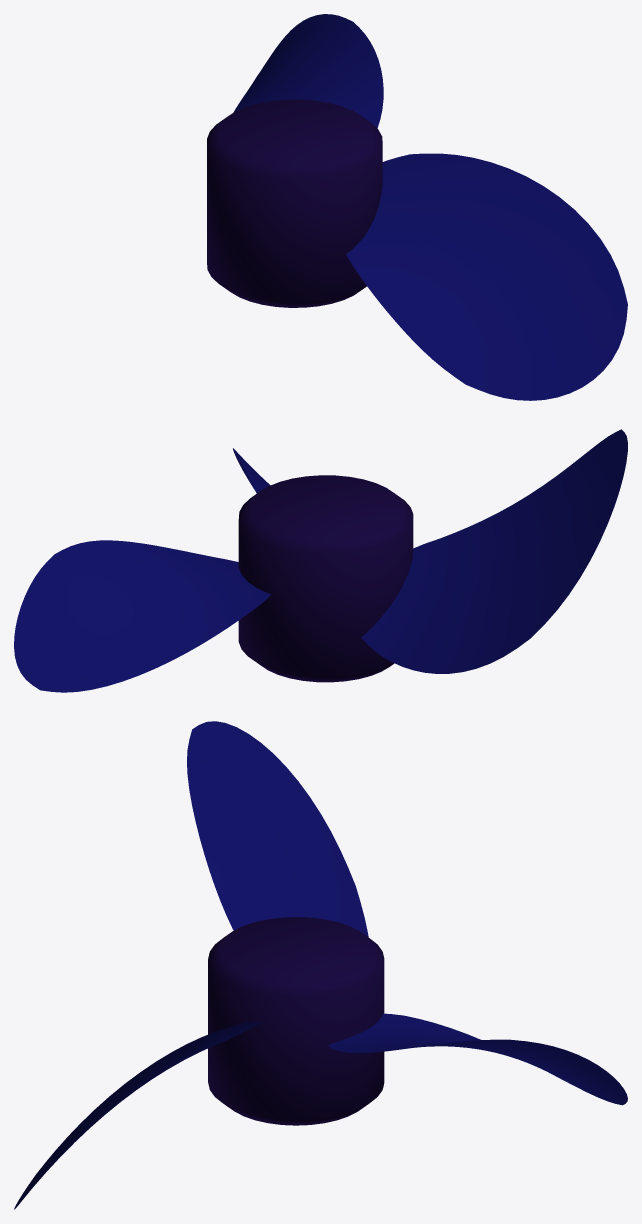
The model's file is propeller.gltf.
3 renders of one model, top to bottom at view 1: azimuth 30°, elevation 25°; view 2: azimuth 150°, elevation 25°; view 3: azimuth 270°, elevation 25°, orthographic.
Visible parts, largest first — view 1: Plane.002, Cylinder; view 2: Plane.002, Cylinder; view 3: Plane.002, Cylinder.
Boxes of the visible parts, bbox=[...] form: Plane.002: bbox=[234, 14, 627, 400]; Cylinder: bbox=[207, 99, 382, 307]; Plane.002: bbox=[14, 429, 627, 692]; Cylinder: bbox=[238, 475, 413, 682]; Plane.002: bbox=[14, 721, 627, 1209]; Cylinder: bbox=[208, 917, 384, 1125].
Bounding box in the file's own units: 6.03 × 3.55 × 6.65.
